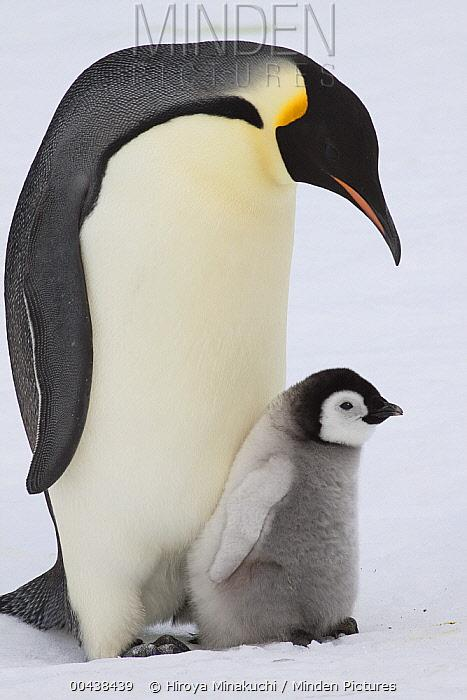emporer: (1, 40, 411, 642)
